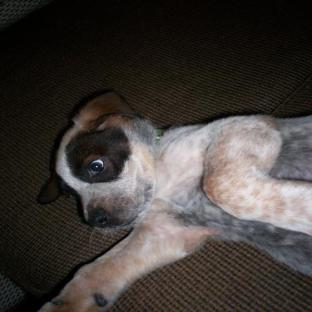Animal: (38, 92, 311, 311)
